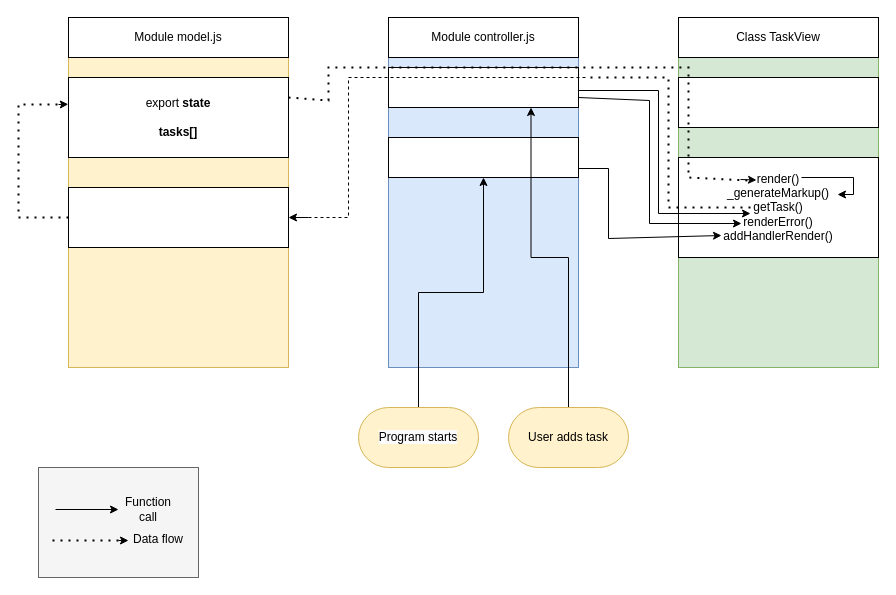
Some shapes in this 896 by 595 pixel diagram are drawn without their labels. Here are the shapes that lost their labels. From the top down, the centre of each, then its label:
[483,87]: controllTasks
[778,102]: _data _parentEl
[483,157]: init()
[178,217]: export createTaskObject()
